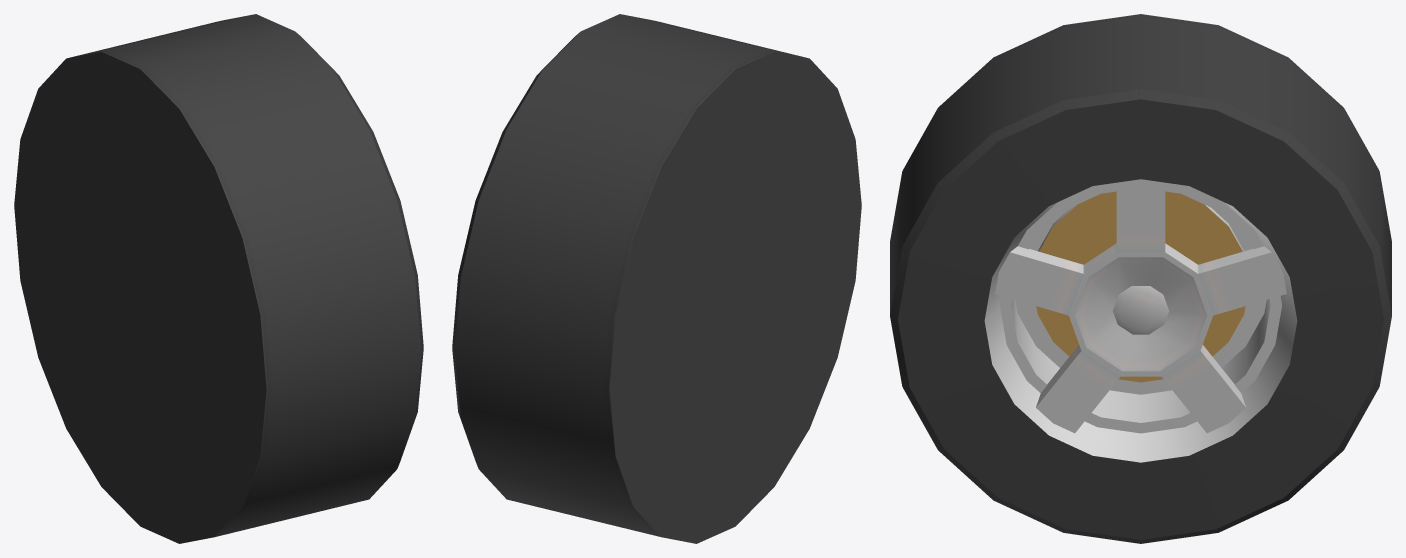
Rendered from WheelMod_02.fbx.
3 views of the same model, side by side, from view 1: azimuth 30°, elevation 25°; view 2: azimuth 150°, elevation 25°; view 3: azimuth 270°, elevation 25° (orthographic).
Visible parts, largest first — view 1: FrontLeftWheel.LOD00; view 2: FrontLeftWheel.LOD00; view 3: FrontLeftWheel.LOD00.
Part boxes in pixels (bbox=[...]): FrontLeftWheel.LOD00: bbox=[14, 14, 423, 543]; FrontLeftWheel.LOD00: bbox=[452, 14, 861, 543]; FrontLeftWheel.LOD00: bbox=[890, 14, 1391, 543].
Size of what is drawn, in the model's own units: 25.02 by 66.76 by 66.76.
